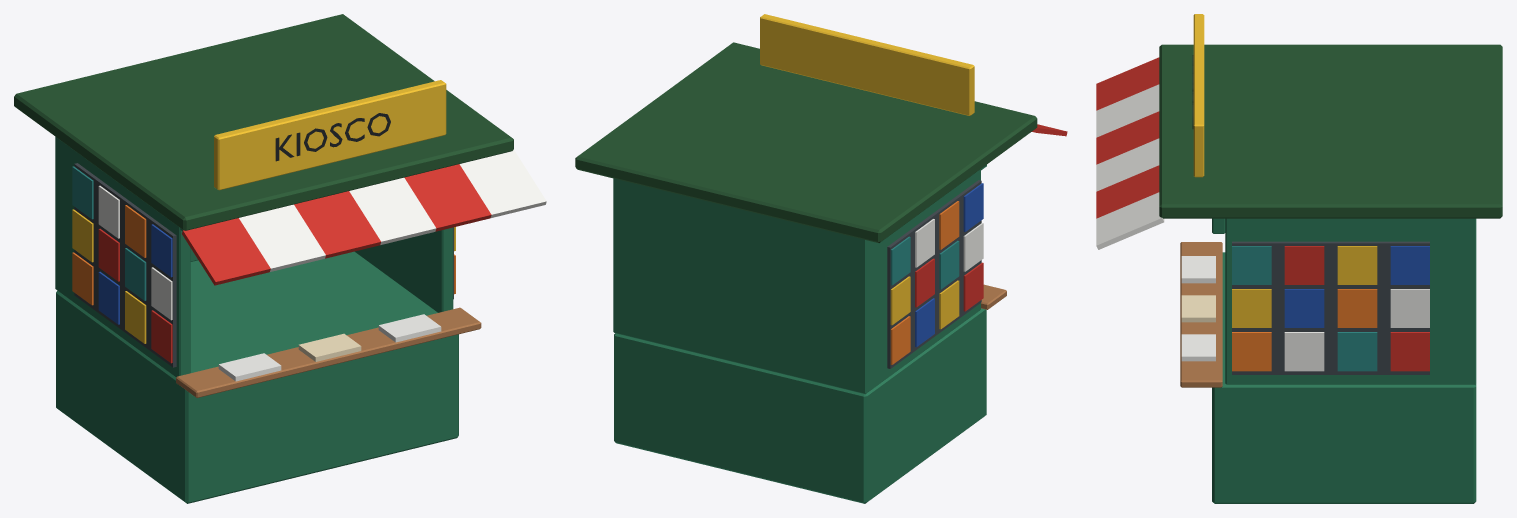
The model's file is Kiosk.fbx.
3 views of the same model, side by side, from view 1: azimuth 30°, elevation 25°; view 2: azimuth 150°, elevation 25°; view 3: azimuth 270°, elevation 25° (orthographic). The views are drawn at different scales.
Visible parts, largest first — view 1: Kiosk; view 2: Kiosk; view 3: Kiosk.
Boxes of the visible parts, x1,y1,x2,y2 form: Kiosk: [14, 14, 546, 503]; Kiosk: [575, 14, 1067, 503]; Kiosk: [1096, 14, 1502, 503].
Bounding box in the file's own units: 2.9 × 3.08 × 3.08.
